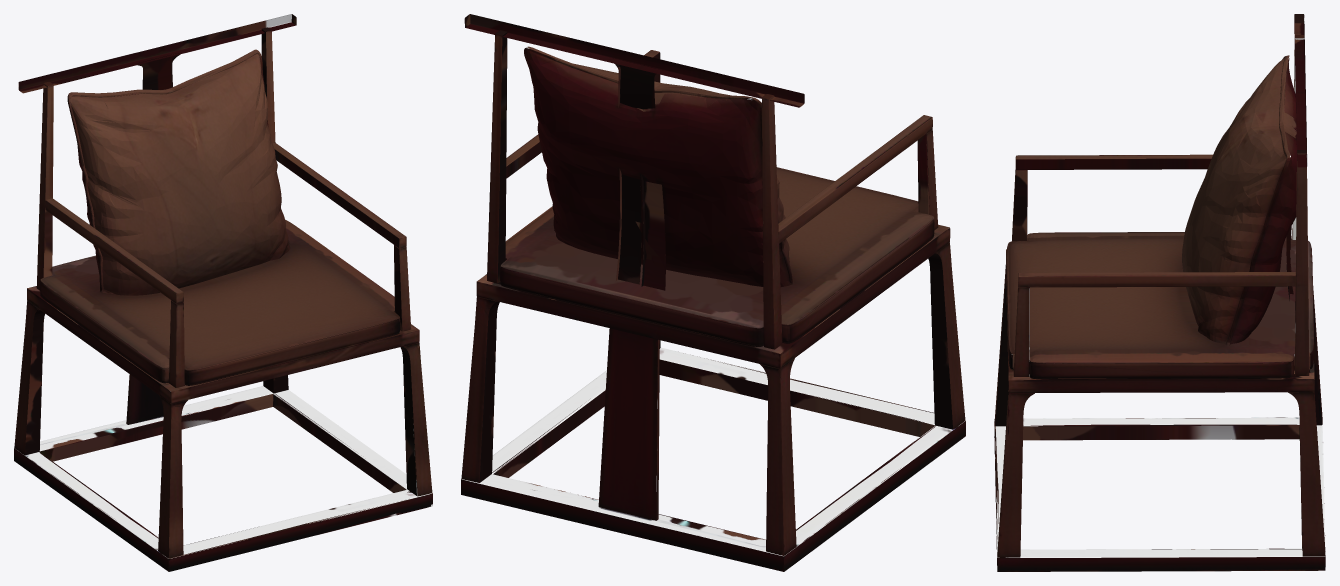
Rendered from edited_mesh.glb.
The picture shows the model from 3 angles, left to right: view 1: azimuth 30°, elevation 25°; view 2: azimuth 150°, elevation 25°; view 3: azimuth 270°, elevation 25°; orthographic projection. The views are drawn at different scales.
Visible parts, largest first — view 1: solid_001_wire; view 2: solid_001_wire; view 3: solid_001_wire.
Boxes of the visible parts, <box> form: solid_001_wire: <box>14,14,432,571</box>; solid_001_wire: <box>461,14,965,571</box>; solid_001_wire: <box>994,14,1325,571</box>.
Size of the model in its own units: 1.08 by 1.46 by 1.05.
1 material, 1 textured.
